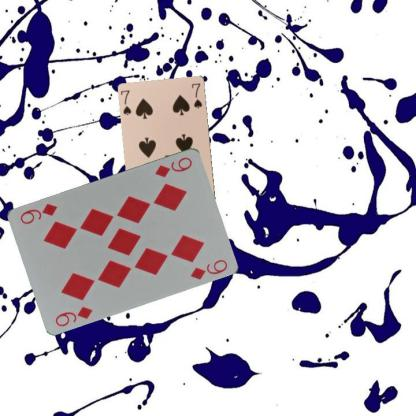7s: (118, 88, 132, 117)
9d: (152, 154, 194, 179), (53, 303, 94, 328)
